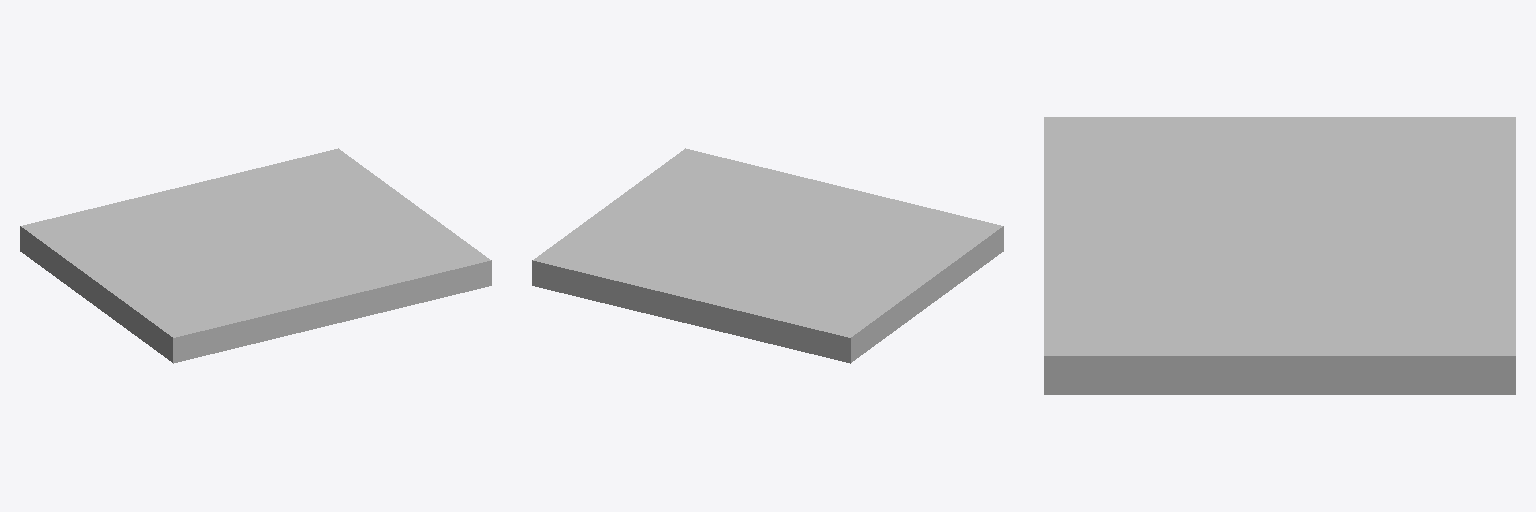
The robot description file, URDF, robot "box.urdf":
<?xml version="1.0" ?>
<robot name="box.urdf">
  <link name="baseLink">
    <contact>
      <lateral_friction value="1.0"/>
      <rolling_friction value="0.0001"/>
      <inertia_scaling value="3.0"/>
    </contact>
    <inertial>
      <origin rpy="0 0 0" xyz="0 0 0"/>
       <mass value="0.1"/>
       <inertia ixx="1" ixy="0" ixz="0" iyy="1" iyz="0" izz="1"/>
    </inertial>
    <visual>
      <origin rpy="0 0 0" xyz="0 0 0"/>
      <geometry>
        <!-- <box size="0.72 0.6 0.055"/> -->
        <mesh filename="box/box.obj" scale="0.72 0.6 0.055"/>
      </geometry>
      <material name="white">
        <color rgba="0.8 0.8 0.8 1"/>
      </material>
    </visual>
    <collision>
      <origin rpy="0 0 0" xyz="0 0 0"/>
      <geometry>
        <mesh filename="box/box.obj" scale="0.72 0.6 0.055"/>
	 	    <!-- <box size="0.72 0.6 0.055"/> -->
      </geometry>
    </collision>
  </link>
</robot>

--- What the picture shows (computed from the rendered views, not written in the file) ---
3 views of the same robot in one strip: view 1: azimuth 30°, elevation 25°; view 2: azimuth 150°, elevation 25°; view 3: azimuth 270°, elevation 25° (orthographic).
Robot: box.urdf — 1 links, 0 joints (none); root link baseLink; default pose: all joints at 0.
Visible links, largest first — view 1: baseLink; view 2: baseLink; view 3: baseLink.
Boxes of the visible links, x1,y1,x2,y2 form: baseLink: (20, 148, 491, 363); baseLink: (532, 148, 1003, 363); baseLink: (1044, 117, 1515, 394).
Size in the robot's own frame: 0.72 by 0.6 by 0.055 metres.
1 mesh visuals loaded from 1 distinct referenced files (1 OBJ).
